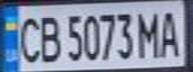0: (81, 11, 100, 62)
3: (115, 9, 139, 61)
5: (60, 10, 84, 62)
7: (100, 10, 118, 61)
A: (157, 6, 184, 58)
B: (33, 11, 63, 63)
C: (12, 11, 45, 64)
M: (136, 7, 163, 60)
